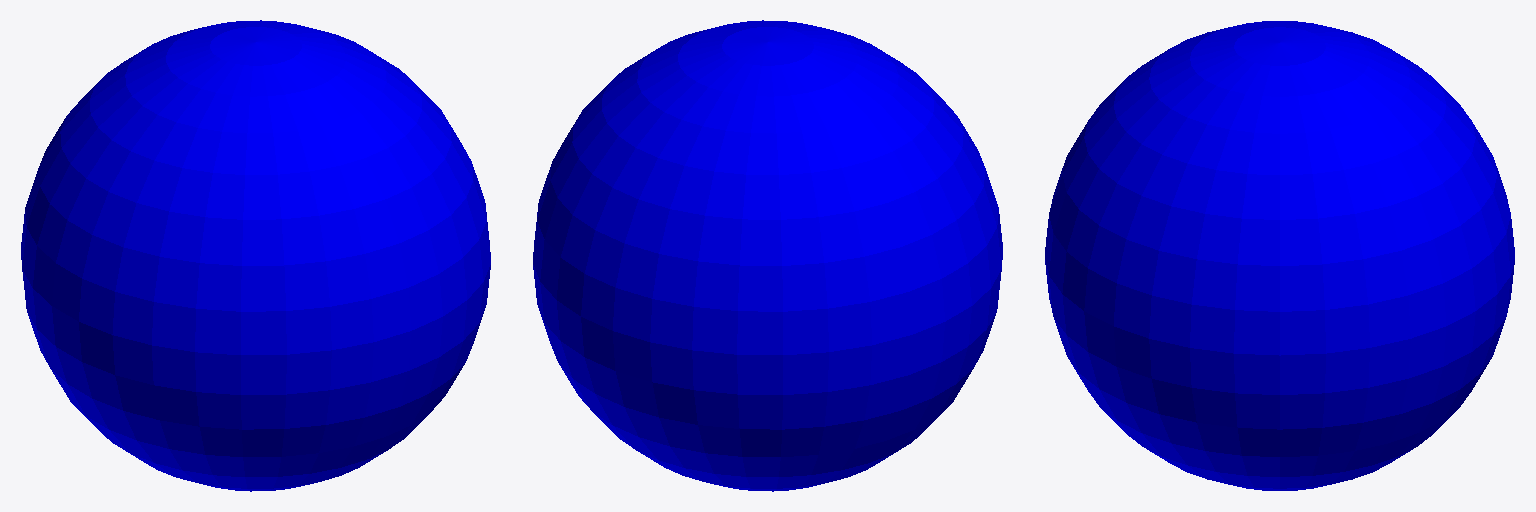
URDF robot description (marker):
<?xml version="1.0"?>
<robot name="marker">
  <link name="marker_link">
    <visual>
      <geometry>
        <sphere radius="0.2"/> <!-- Radio de la esfera -->
      </geometry>
      <material name="blue">
        <color rgba="0 0 1 1"/> <!-- Color azul -->
      </material>
    </visual>
    <collision>
      <geometry>
        <sphere radius="0.2"/> <!-- Debe coincidir con el visual -->
      </geometry>
    </collision>
    <inertial>
      <mass value="1.0"/>
      <origin xyz="0 0 0"/>
      <inertia ixx="0.01" ixy="0.0" ixz="0.0" iyy="0.01" iyz="0.0" izz="0.01"/>
    </inertial>
  </link>
</robot>

--- What the picture shows (computed from the rendered views, not written in the file) ---
3 views of the same robot in one strip: view 1: azimuth 30°, elevation 25°; view 2: azimuth 150°, elevation 25°; view 3: azimuth 270°, elevation 25° (orthographic).
Model marker with 1 links and 0 joints (none), rooted at marker_link, posed all joints at 0.
Visible links, largest first — view 1: marker_link; view 2: marker_link; view 3: marker_link.
Boxes of the visible links, left/top/right/bottom form: marker_link: left=21, top=20, right=490, bottom=491; marker_link: left=533, top=20, right=1002, bottom=491; marker_link: left=1045, top=21, right=1514, bottom=490.
Size in the robot's own frame: 0.4 by 0.4 by 0.4 metres.
Geometry: primitives only (box / cylinder / sphere), no mesh files.